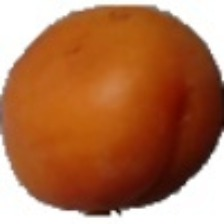apricot: (0, 42, 180, 187)
